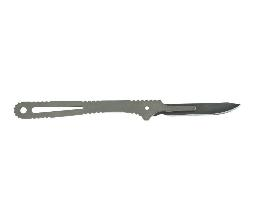scalpel: (14, 98, 242, 122)
